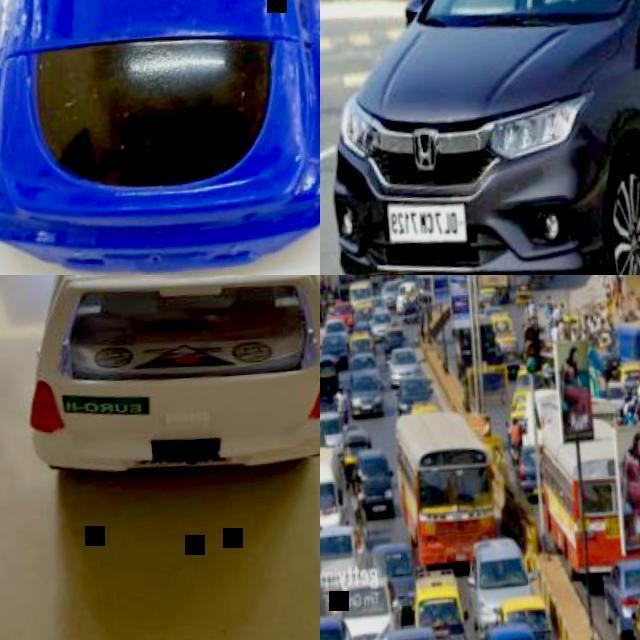car: (2, 0, 324, 273), (336, 0, 639, 262), (24, 280, 326, 508), (397, 410, 492, 548), (465, 536, 564, 639), (321, 520, 397, 639), (348, 371, 385, 418)
